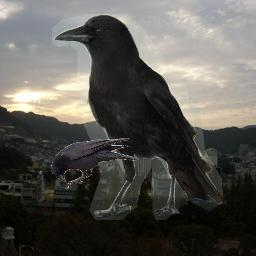Crow: (52, 14, 224, 220), (51, 138, 140, 190)
